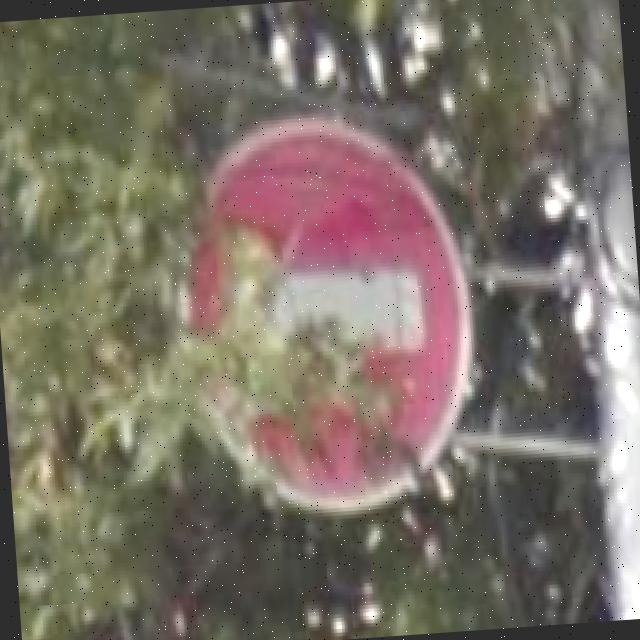Zakaz wjazdu: (162, 106, 488, 522)
